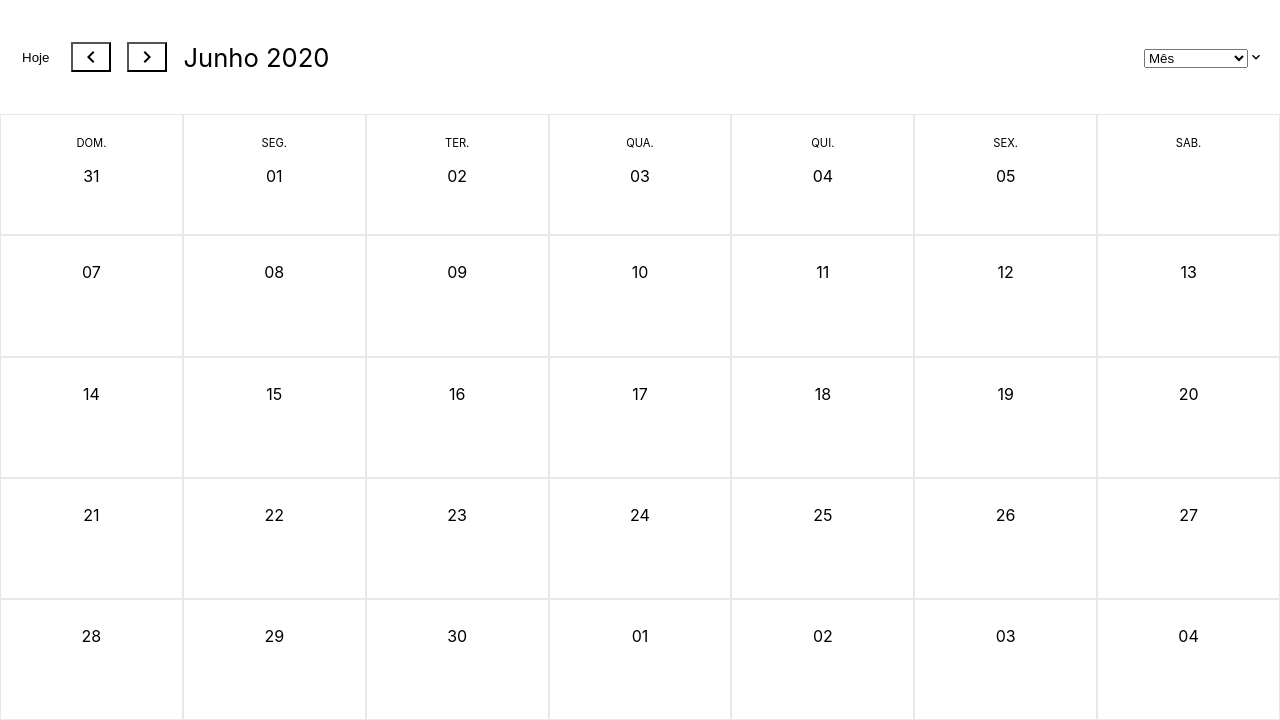
Test case: Calendar › Next month button › changes the calendar to the next month when clicked
The image size is (1280, 720).
Expected: the text "julho 2020" is not shown
Click the button titled "Próximo mês" at (147, 57), box [127,42,167,72]
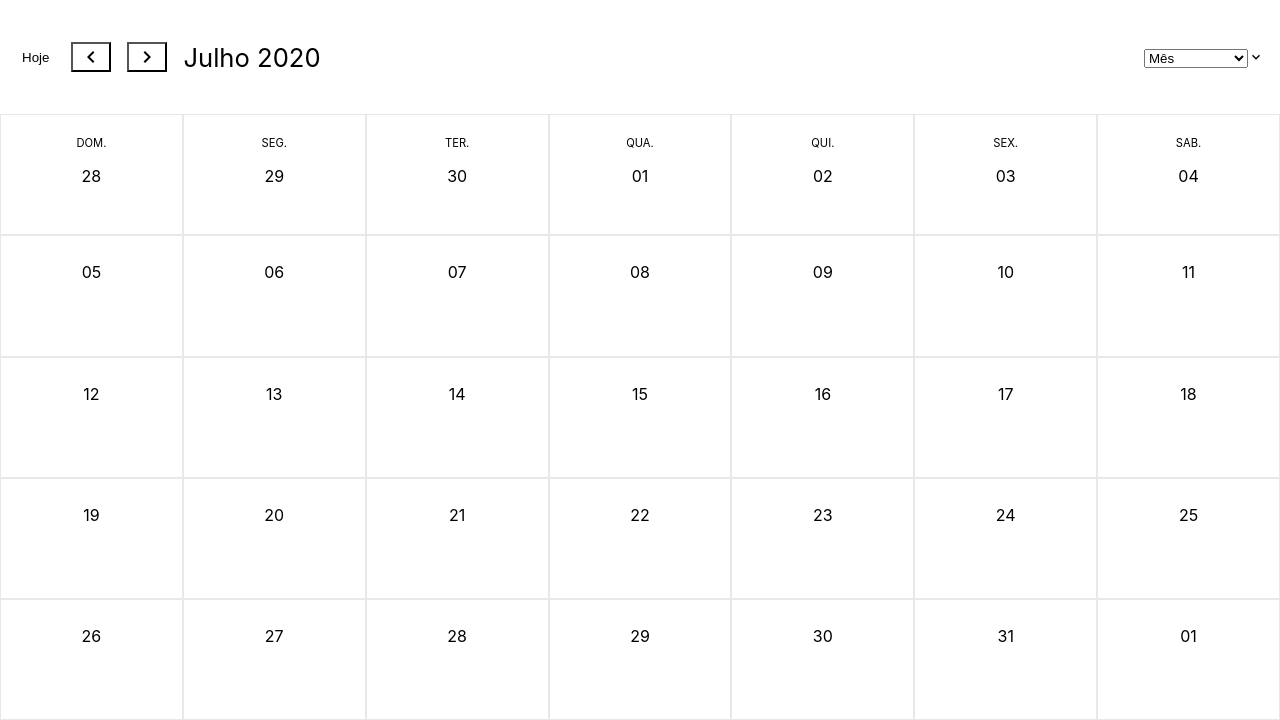
Expected: the text "julho 2020" is shown, [183,42,320,73]
